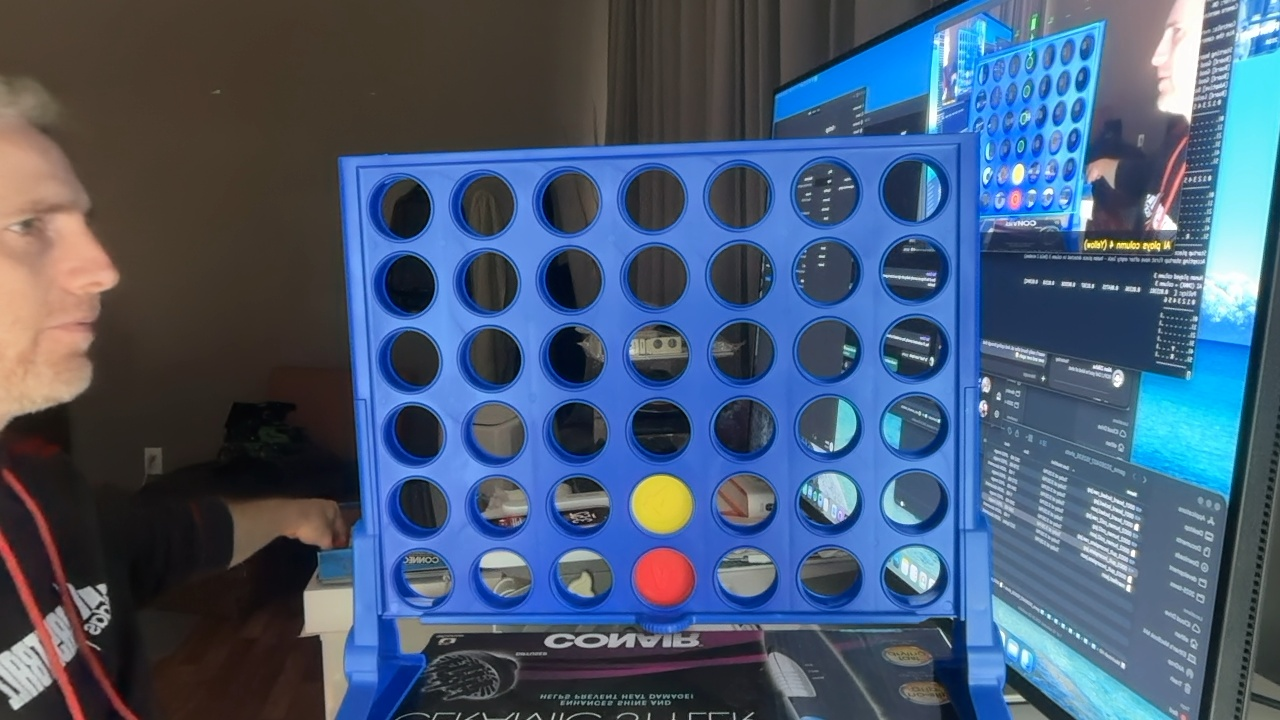red piece: (633, 548, 695, 606)
yellow piece: (631, 474, 693, 534)
